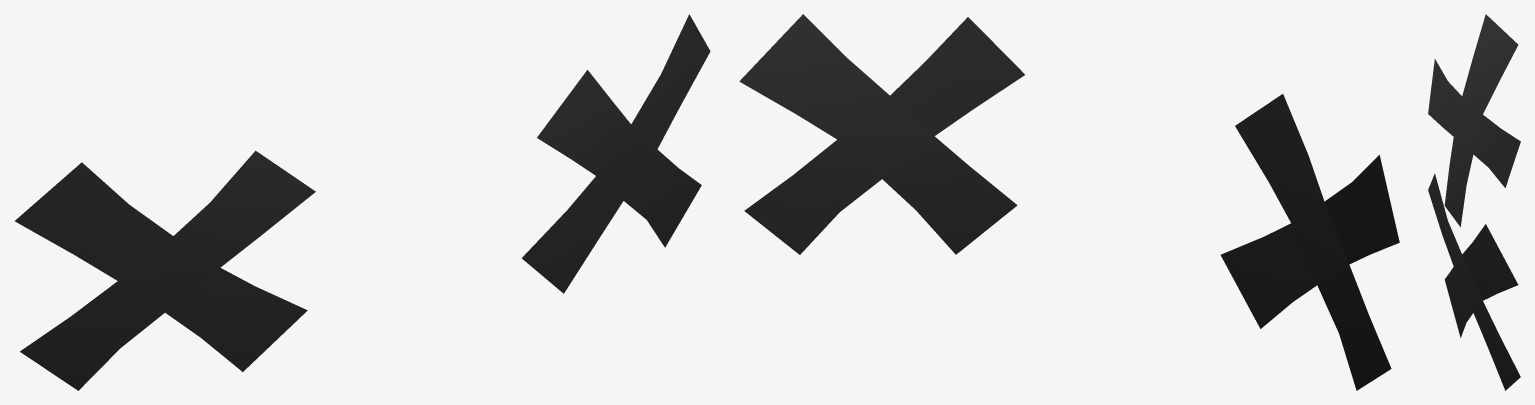
Rendered from Eye_11.fbx.
3 renders of one model, left to right at view 1: azimuth 30°, elevation 25°; view 2: azimuth 150°, elevation 25°; view 3: azimuth 270°, elevation 25°, orthographic. The views are drawn at different scales.
Visible parts, largest first — view 1: Eye_11; view 2: Eye_11; view 3: Eye_11.
Boxes of the visible parts, x1,y1,x2,y2 form: Eye_11: [14, 14, 710, 390]; Eye_11: [739, 14, 1399, 390]; Eye_11: [1428, 14, 1520, 390].
Bounding box in the file's own units: 34.2 × 11.54 × 5.59.
